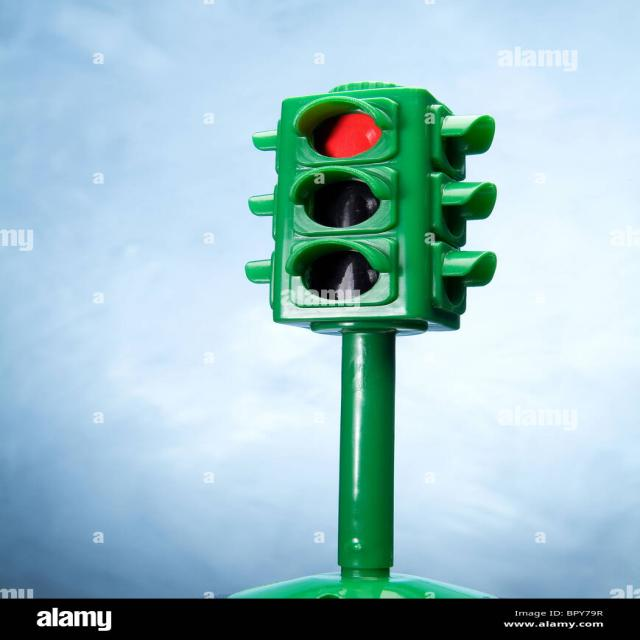red: (285, 92, 412, 176)
